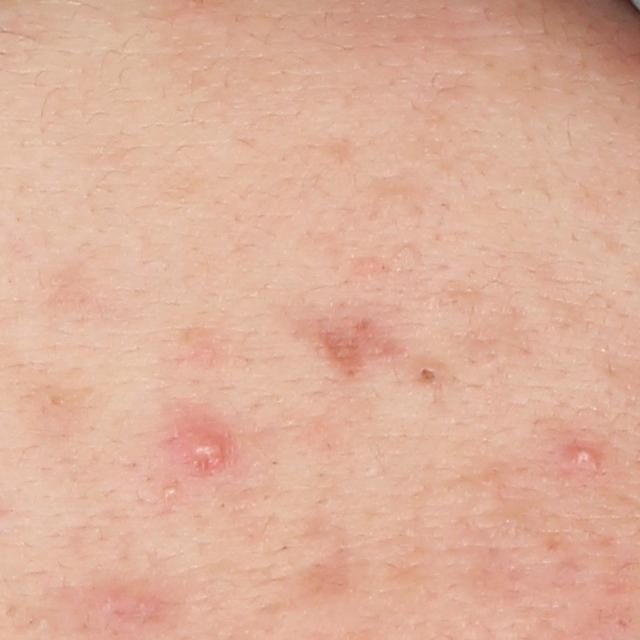comedo: (418, 364, 437, 382)
pustule: (174, 421, 228, 477), (567, 441, 601, 472)
